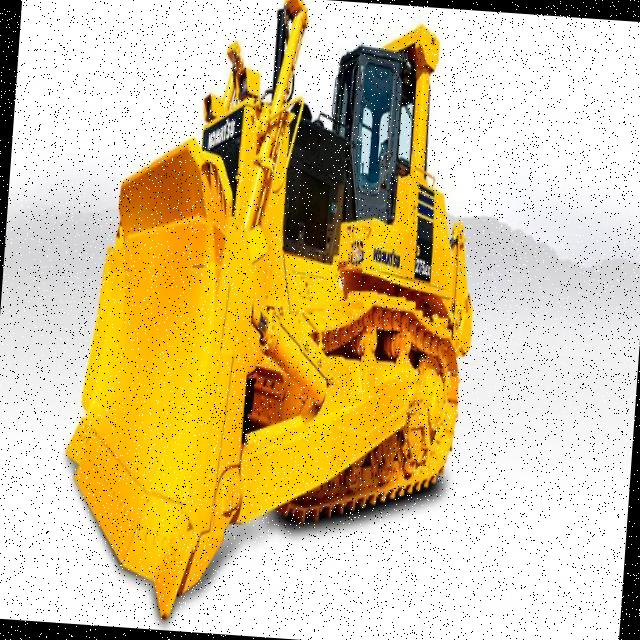Bulldozer: (55, 0, 497, 640)
